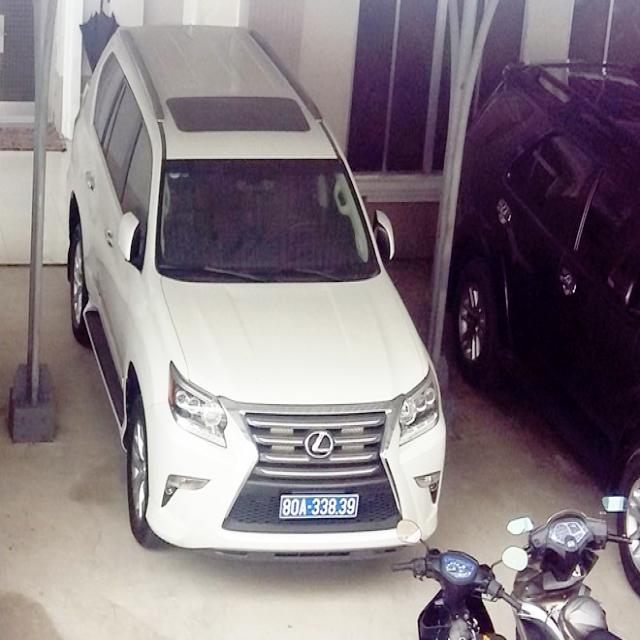license_plate: (282, 495, 359, 518)
